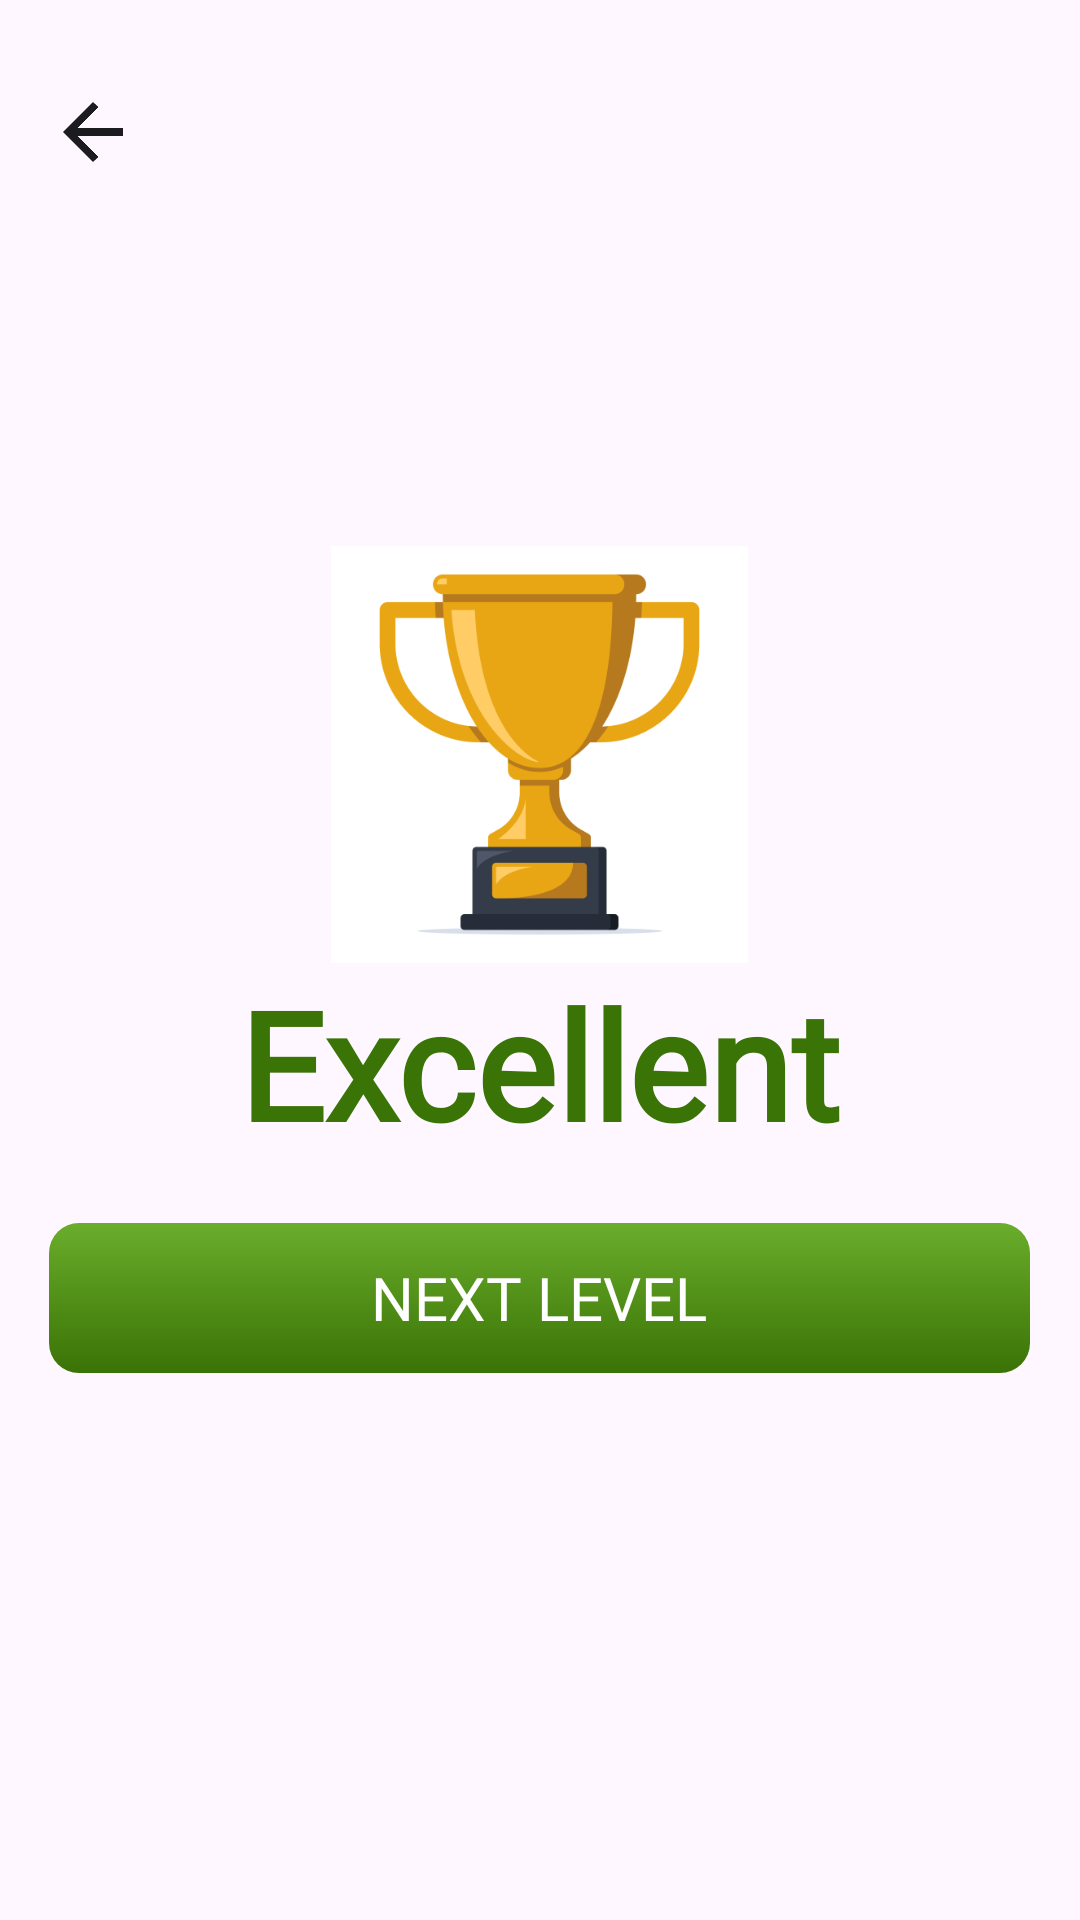

Icon click points for this 1080w x 1920h phone screenshot, format point (x, y):
arrow back: point (93, 132)
trophy: point (539, 754)
